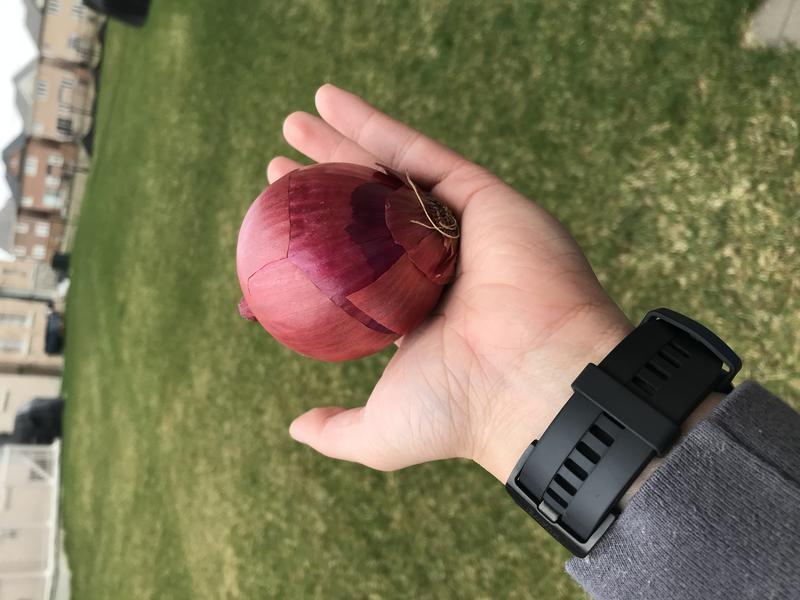purple_onion: (214, 156, 482, 369)
